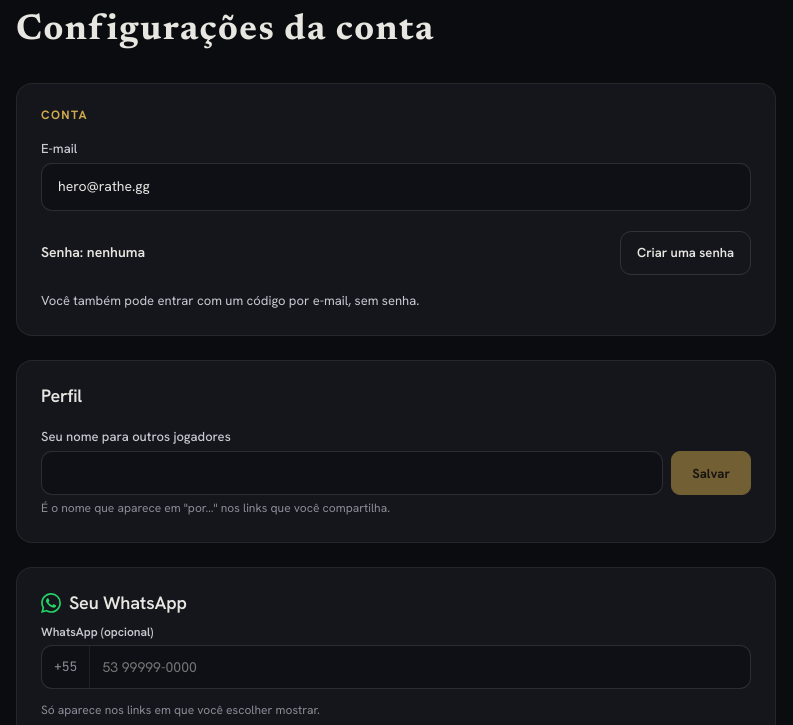
Test: SettingsPage — Profile section › saves the trimmed display name with PATCH and mirrors it into the auth context
In the field labelled "Seu nome para outros jogadores": (352, 474) [41,452,663,496], type "  Dudu  "
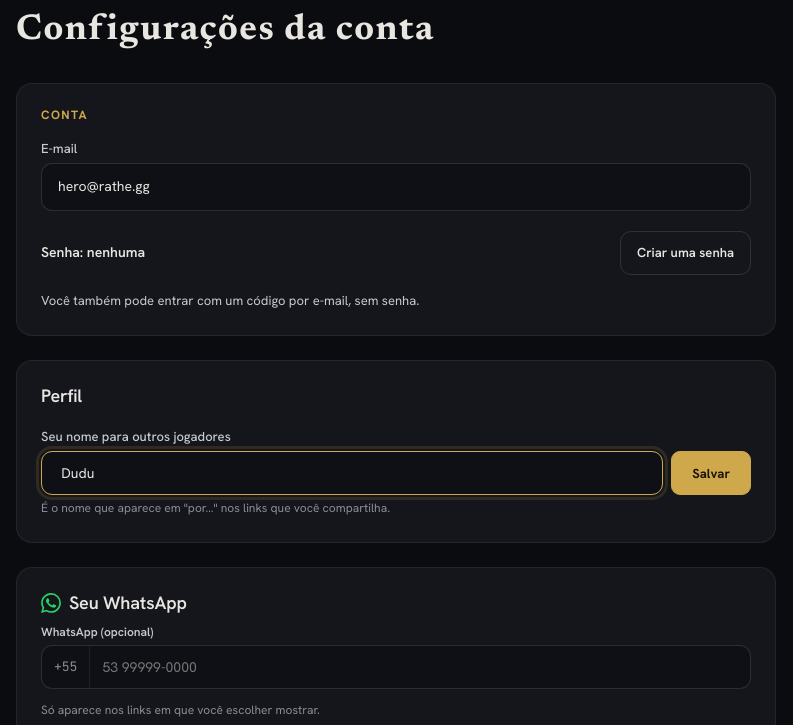
Click the button "Salvar": (711, 474) [671,452,751,496]
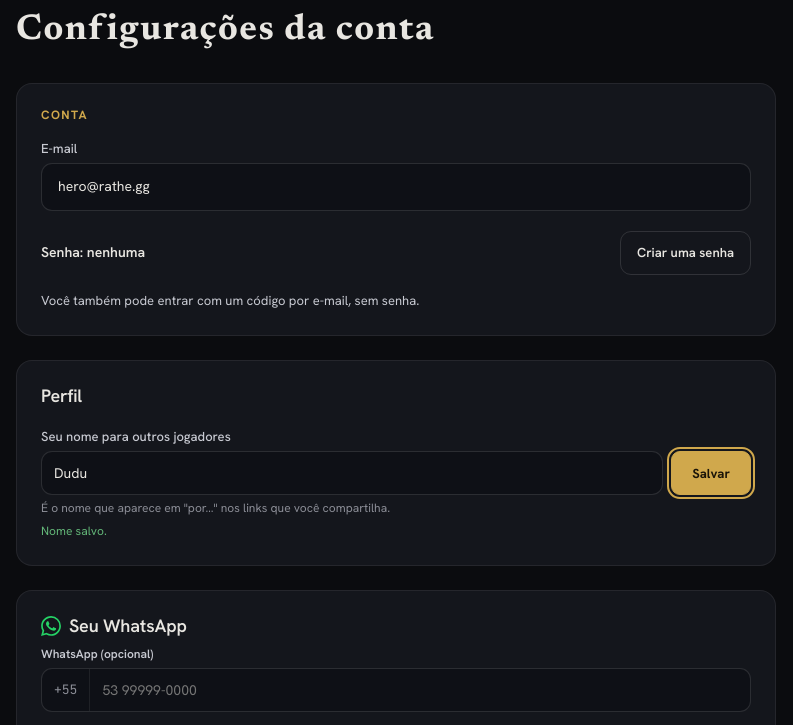
Check: the text "Nome salvo." is shown, box [41,523,107,539]
